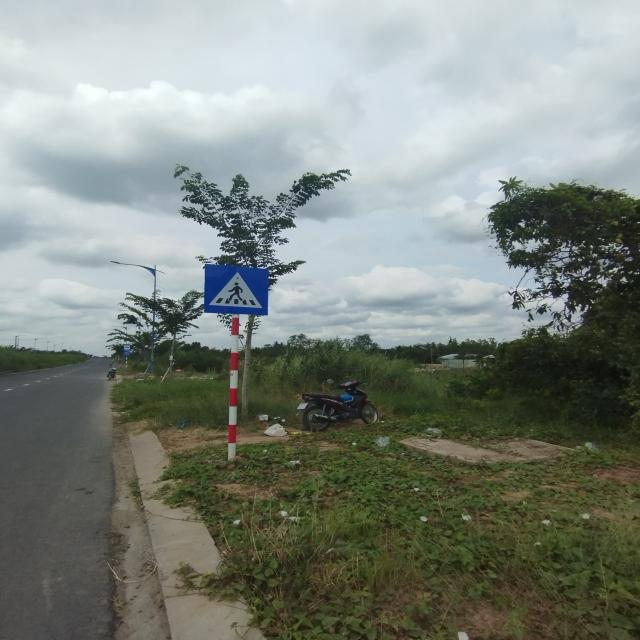Giao_Nhau_Duong_Uu_Tien: (204, 265, 269, 315)
